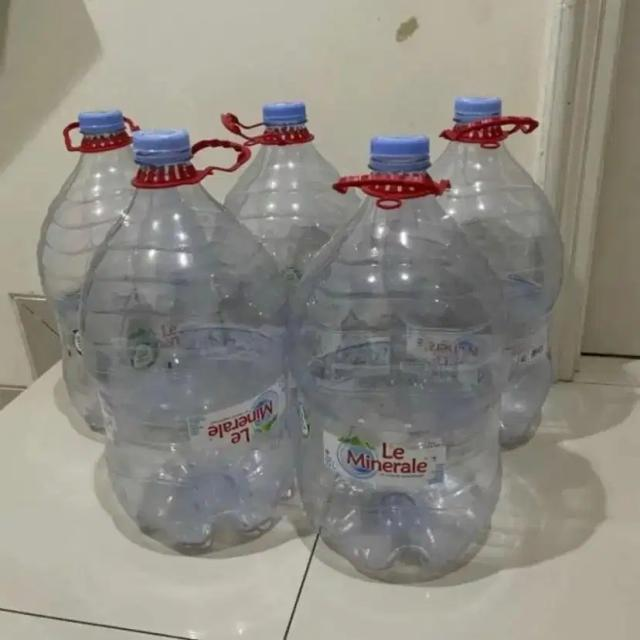Galon: (37, 92, 584, 566)
